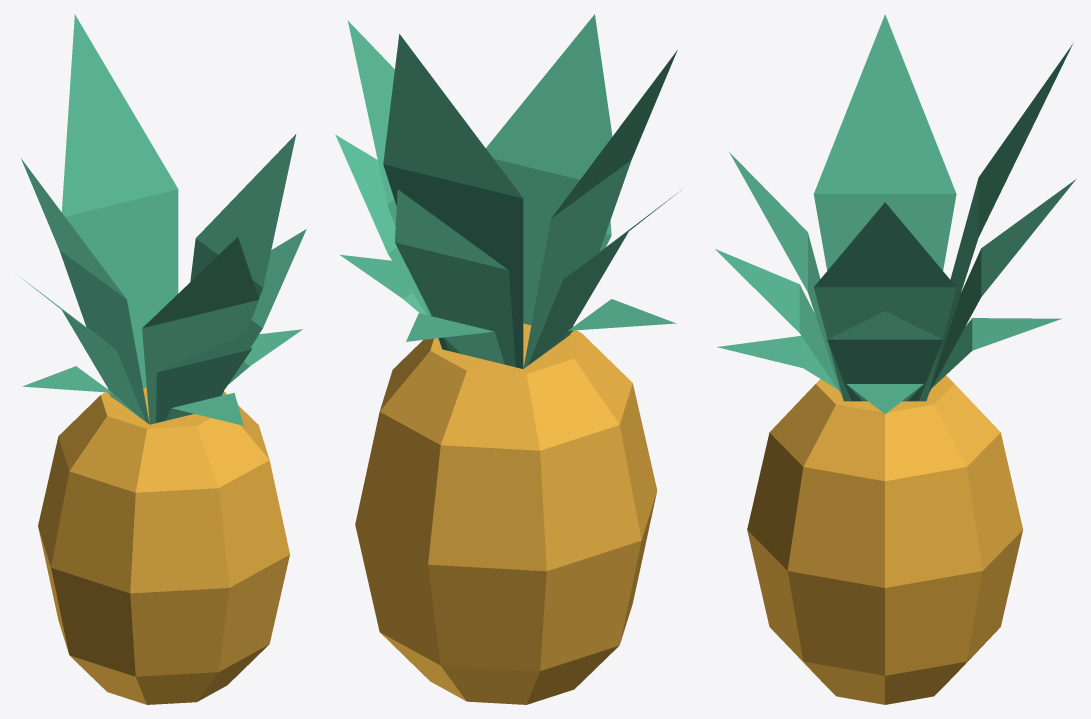
File: pineapple.fbx
3 renders of one model, left to right at view 1: azimuth 30°, elevation 25°; view 2: azimuth 150°, elevation 25°; view 3: azimuth 270°, elevation 25°, orthographic. The views are drawn at different scales.
Visible parts, largest first — view 1: pineapple; view 2: pineapple; view 3: pineapple.
Part boxes in pixels (x1,y1,x2,y2): pineapple: (18,14,306,704); pineapple: (335,14,680,704); pineapple: (715,14,1075,704).
Size of the model in its own units: 2.41 by 4.72 by 2.45.
